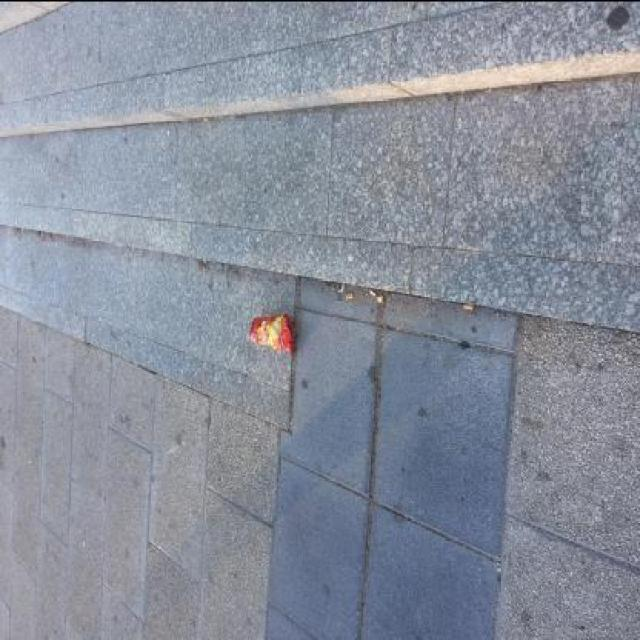plastic: (248, 312, 294, 356)
